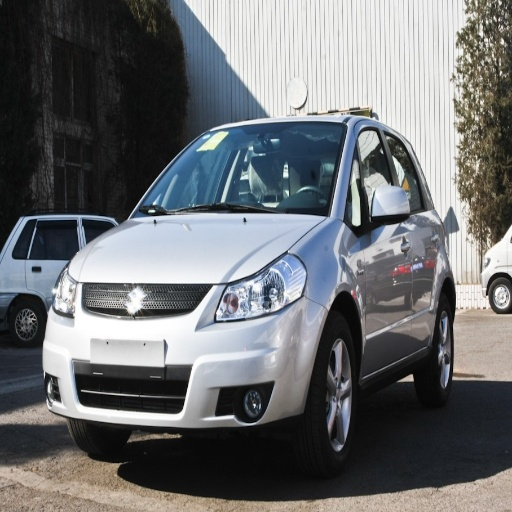front_bumper: (42, 281, 327, 429)
front_glass: (137, 123, 347, 215)
front_left_door: (347, 123, 412, 374)
